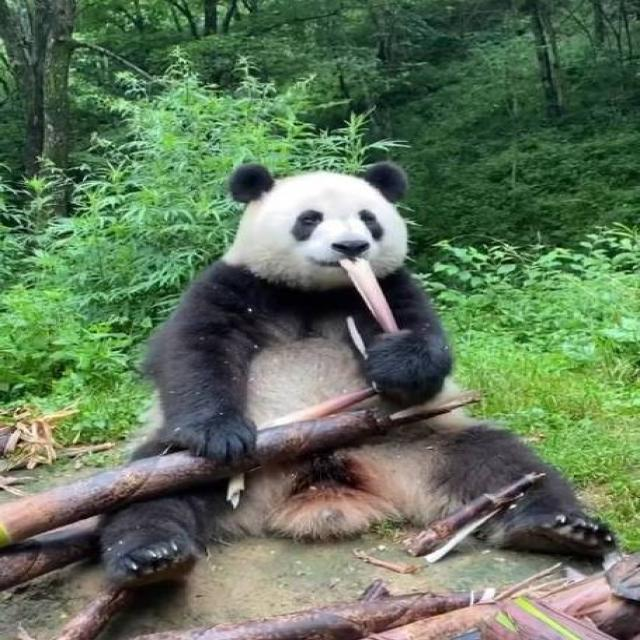panda: (76, 154, 640, 554)
